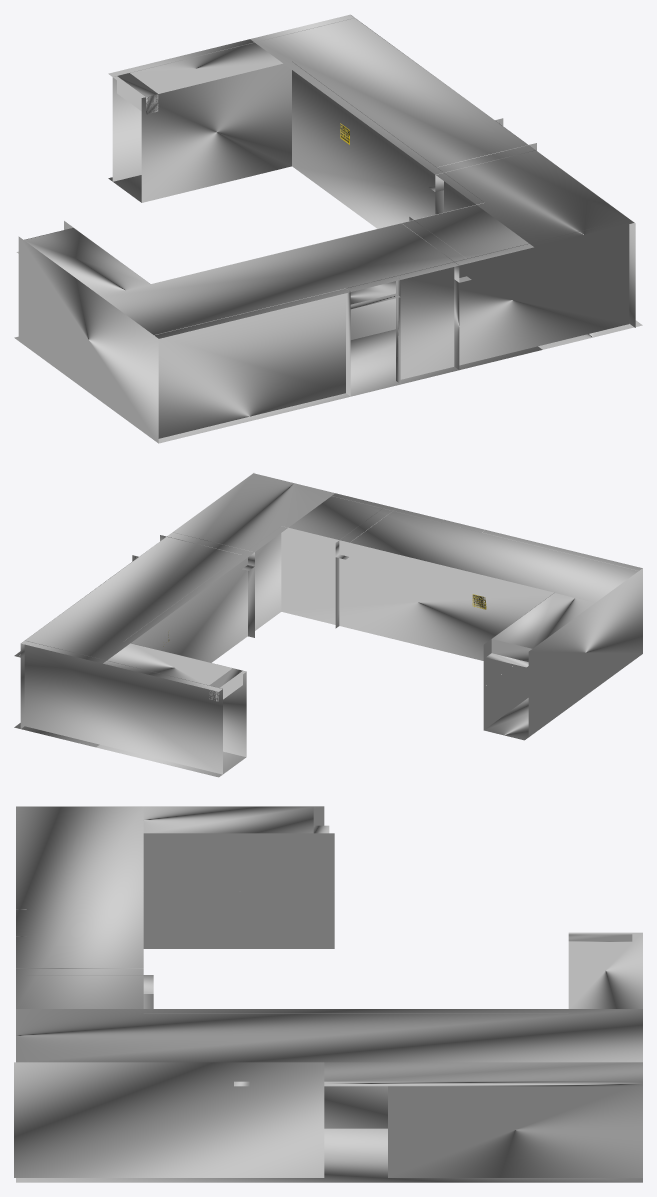
The model's file is lockroom3_opt.obj.
3 renders of one model, top to bottom at view 1: azimuth 30°, elevation 25°; view 2: azimuth 150°, elevation 25°; view 3: azimuth 270°, elevation 25°, orthographic. The views are drawn at different scales.
Bounding box in the file's own units: 92.8 × 19.2 × 94.7.
